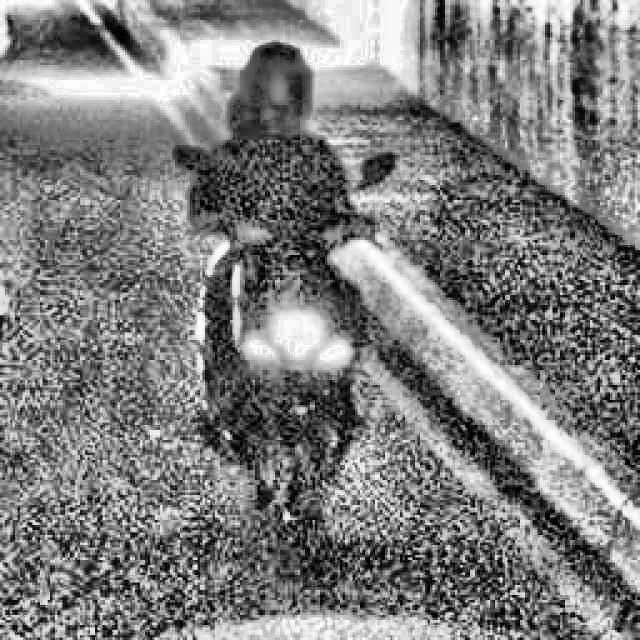motorcycle: (155, 113, 411, 540)
